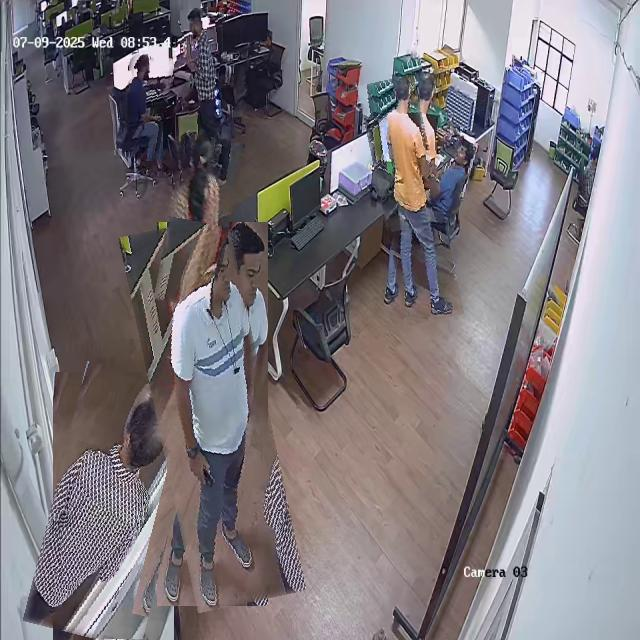person: (138, 219, 287, 609), (37, 366, 189, 640), (370, 76, 452, 323), (161, 134, 238, 308), (184, 7, 235, 183), (119, 53, 171, 160), (440, 141, 478, 201)
